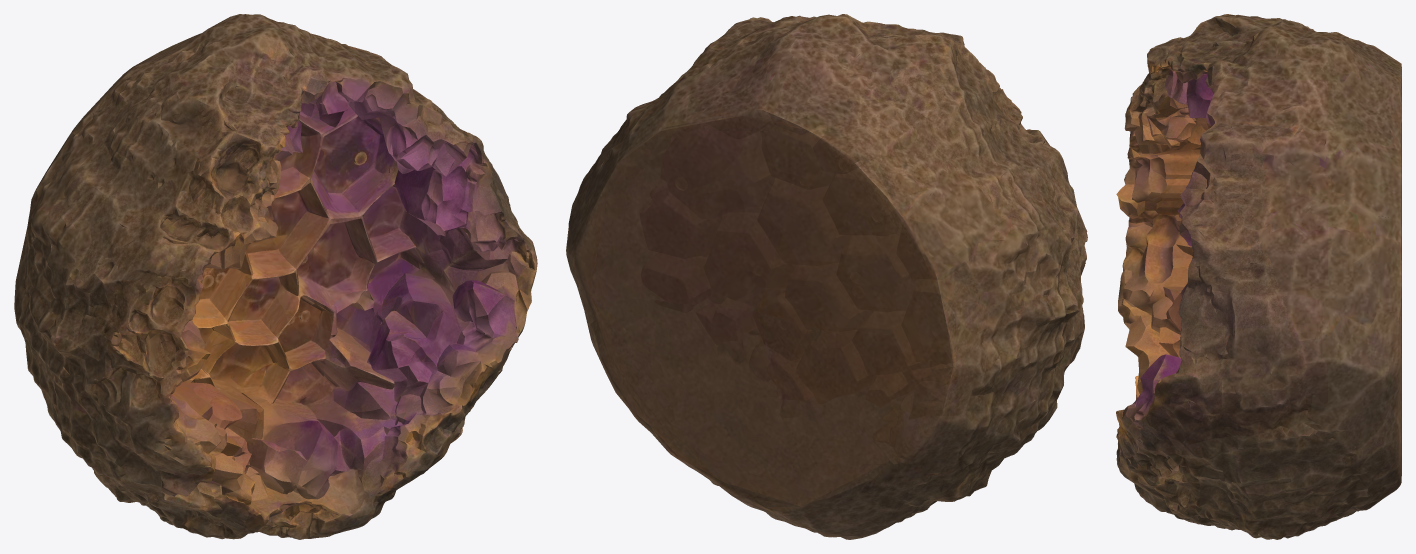
3 renders of one model, left to right at view 1: azimuth 30°, elevation 25°; view 2: azimuth 150°, elevation 25°; view 3: azimuth 270°, elevation 25°, orthographic.
Parts seen in each view (by area): view 1: Mesh_0; view 2: Mesh_0; view 3: Mesh_0.
Part boxes in pixels (x1,y1,x2,y2): Mesh_0: (14,14,537,539); Mesh_0: (566,14,1087,539); Mesh_0: (1116,14,1401,539).
Size of the model in its own units: 1.89 by 1.89 by 1.01.
Materials: 1 (1 with a texture image).
